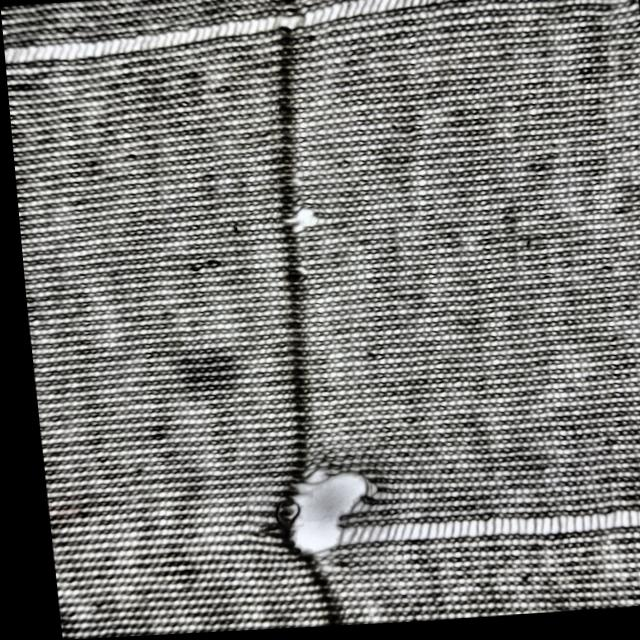Hole: (163, 343, 242, 413), (271, 199, 321, 244)
Stitch: (244, 427, 640, 573), (0, 0, 640, 70)
